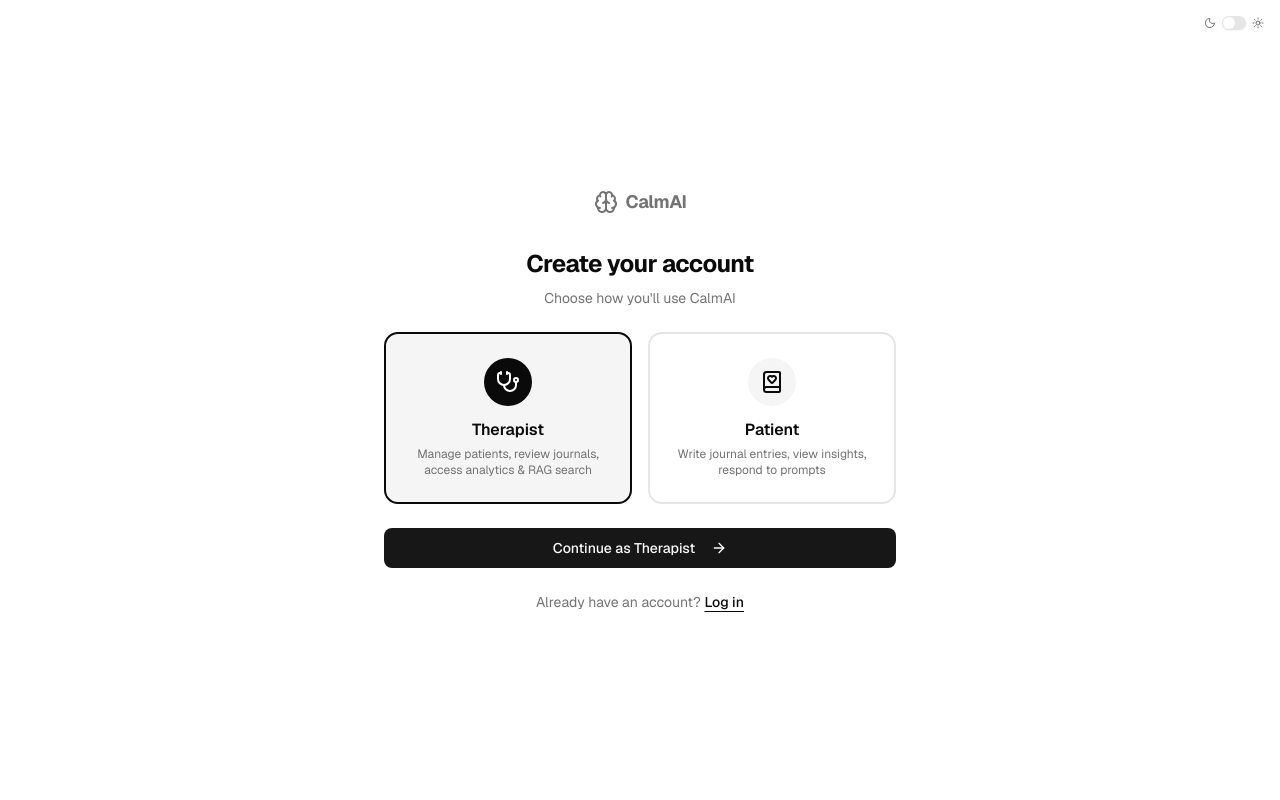
Test: Signup page › navigates to form step when Continue is clicked
The width and height of the screenshot is (1280, 800).
Click the button "Continue as Therapist".
click(640, 548)  # box [384,528,896,568]
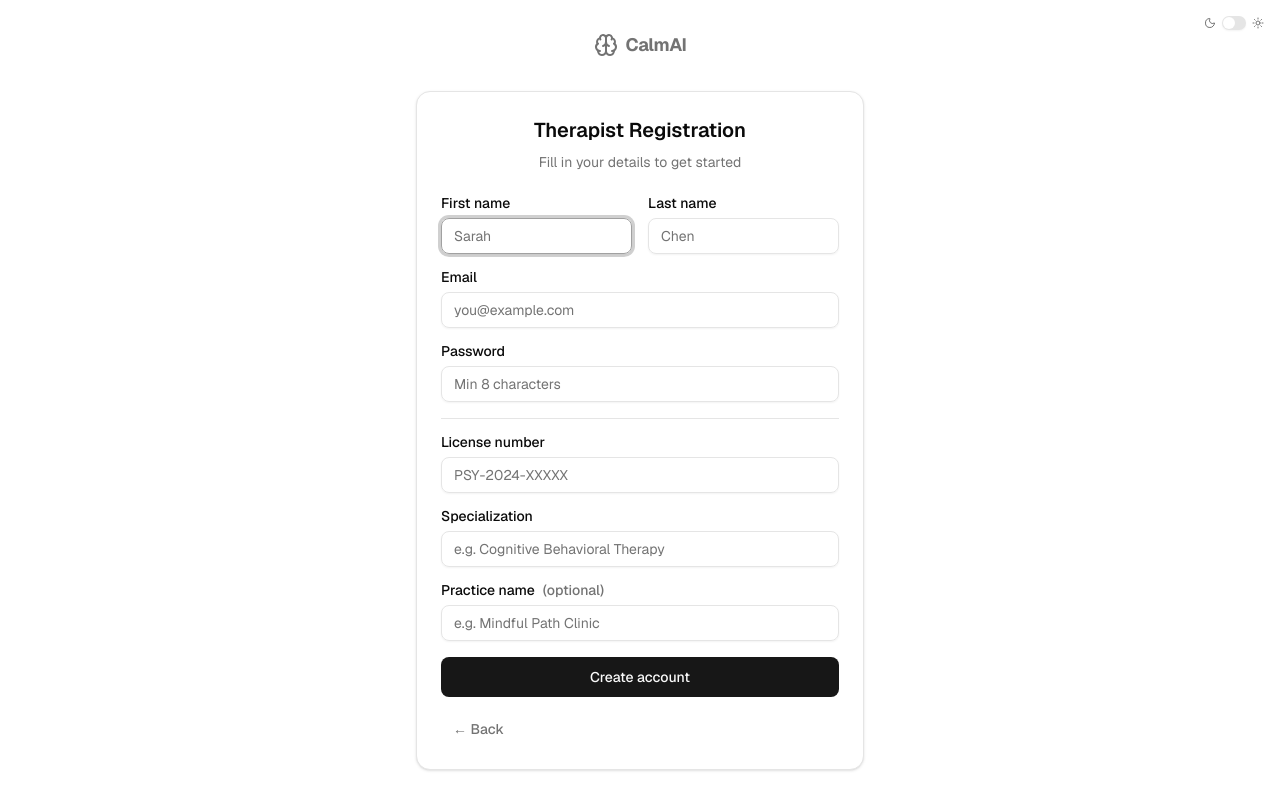
Now the text "Therapist Registration" is shown, box [534,116,746,142]
Now the field labelled "First name" is shown, box [441,218,632,254]
Now the field labelled "Last name" is shown, box [648,218,839,254]
